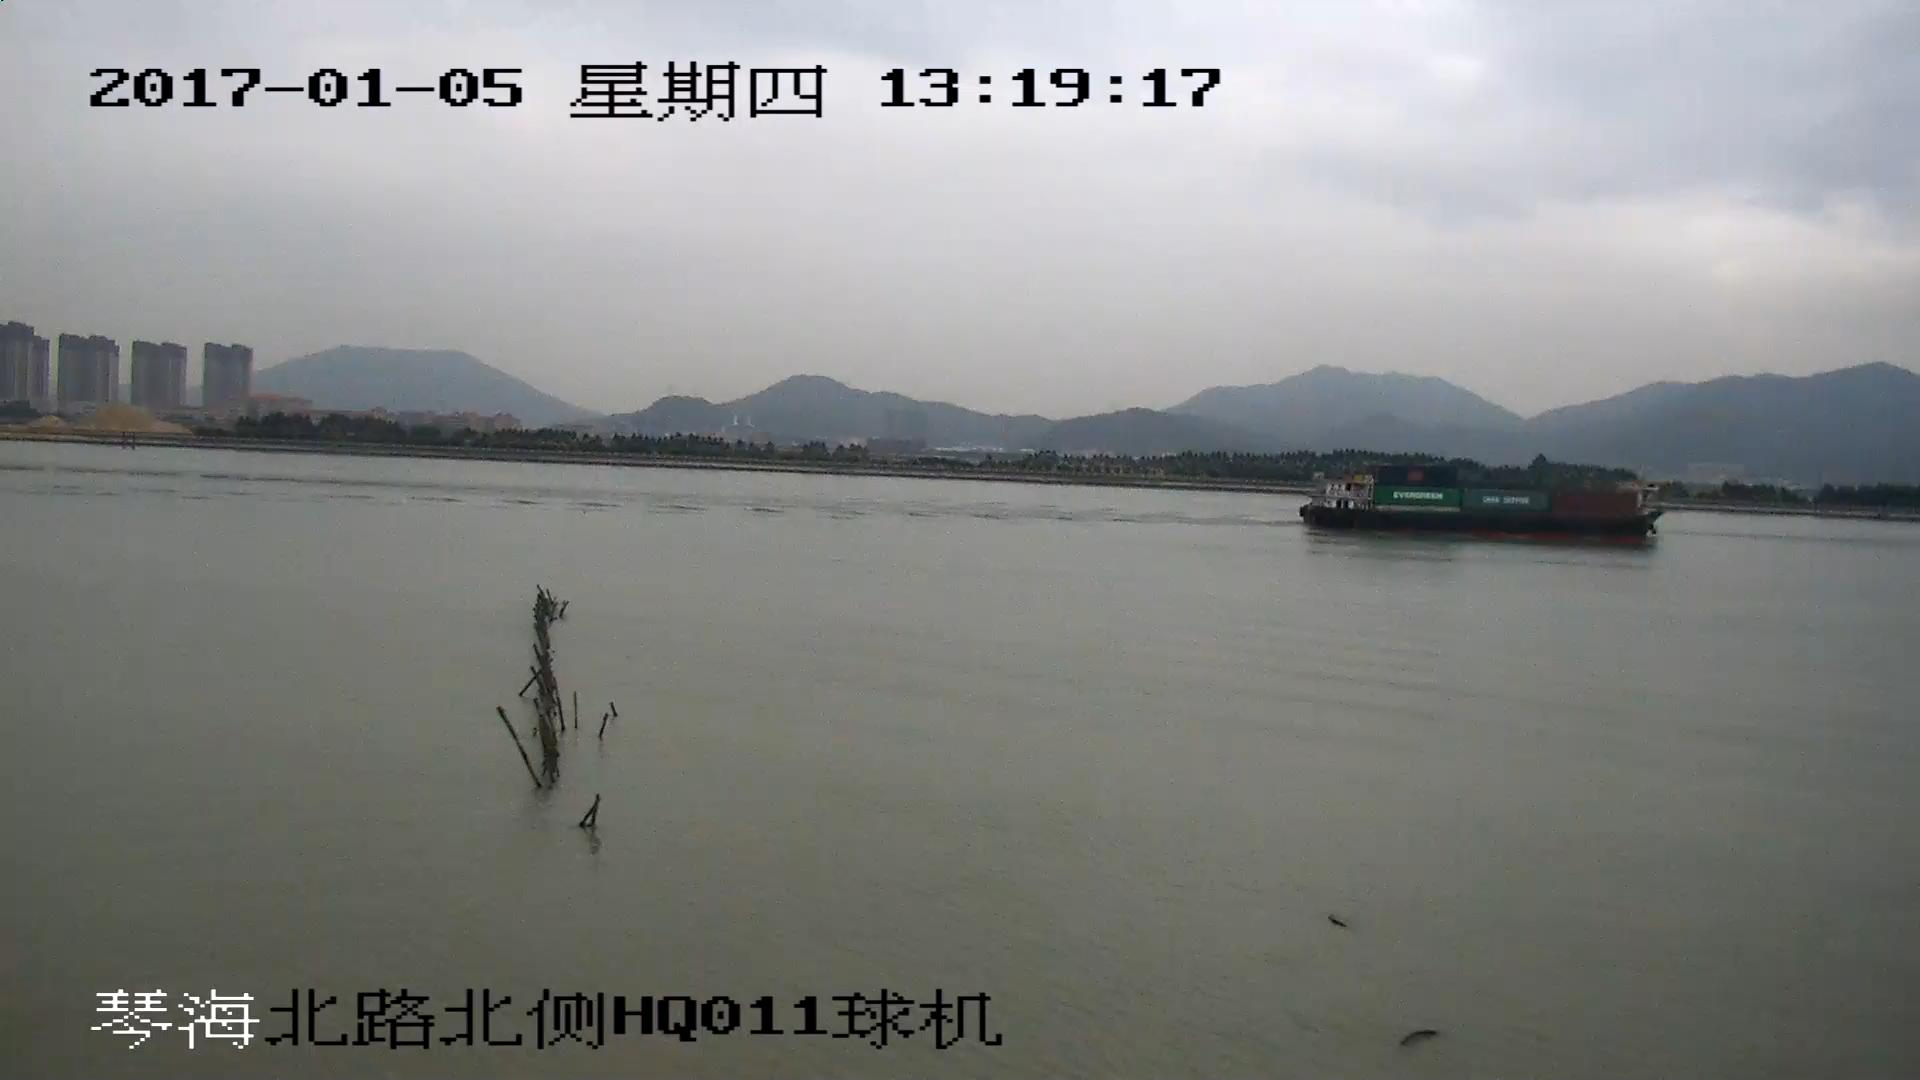container ship: (1303, 460, 1667, 537)
